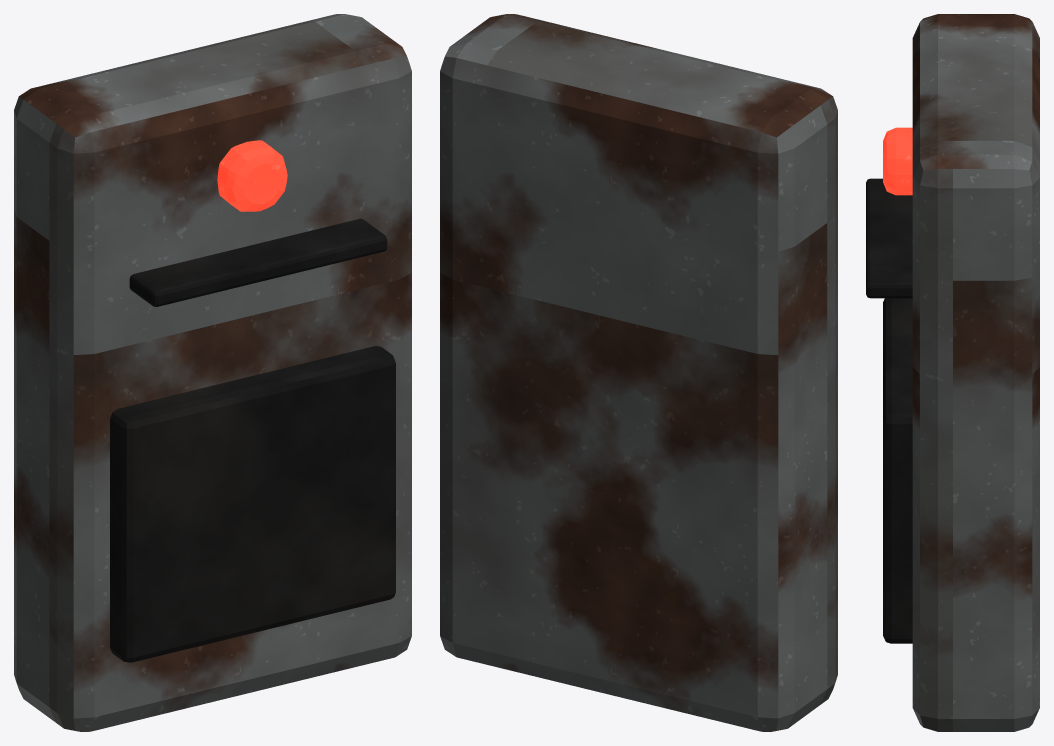
The model's file is F31_keycard_reader.glb.
3 renders of one model, left to right at view 1: azimuth 30°, elevation 25°; view 2: azimuth 150°, elevation 25°; view 3: azimuth 270°, elevation 25°, orthographic. The views are drawn at different scales.
Visible parts, largest first — view 1: F31_keycard_reader; view 2: F31_keycard_reader; view 3: F31_keycard_reader.
Boxes of the visible parts, x1,y1,x2,y2 form: F31_keycard_reader: (14, 14, 411, 731); F31_keycard_reader: (440, 14, 837, 731); F31_keycard_reader: (866, 14, 1039, 731).
Size of the model in its own units: 0.12 by 0.2 by 0.0547.
Materials: 3 (3 with a texture image).
